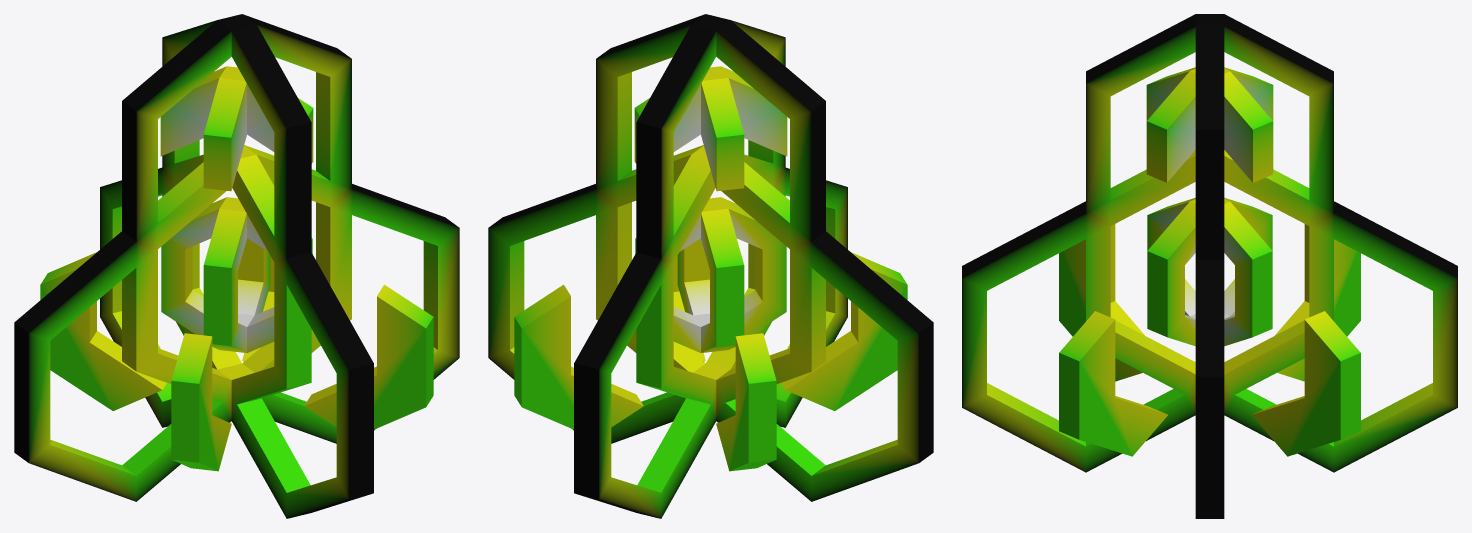
Rendered from Symbolics02.FBX.
3 views of the same model, side by side, from view 1: azimuth 30°, elevation 25°; view 2: azimuth 150°, elevation 25°; view 3: azimuth 270°, elevation 25° (orthographic).
Parts seen in each view (by area): view 1: Symbolics02; view 2: Symbolics02; view 3: Symbolics02.
Part boxes in pixels (left/top/right/bottom): Symbolics02: left=14, top=14, right=459, bottom=518; Symbolics02: left=488, top=14, right=933, bottom=518; Symbolics02: left=962, top=14, right=1457, bottom=518.
Bounding box in the file's own units: 26.23 × 26.06 × 26.23.
